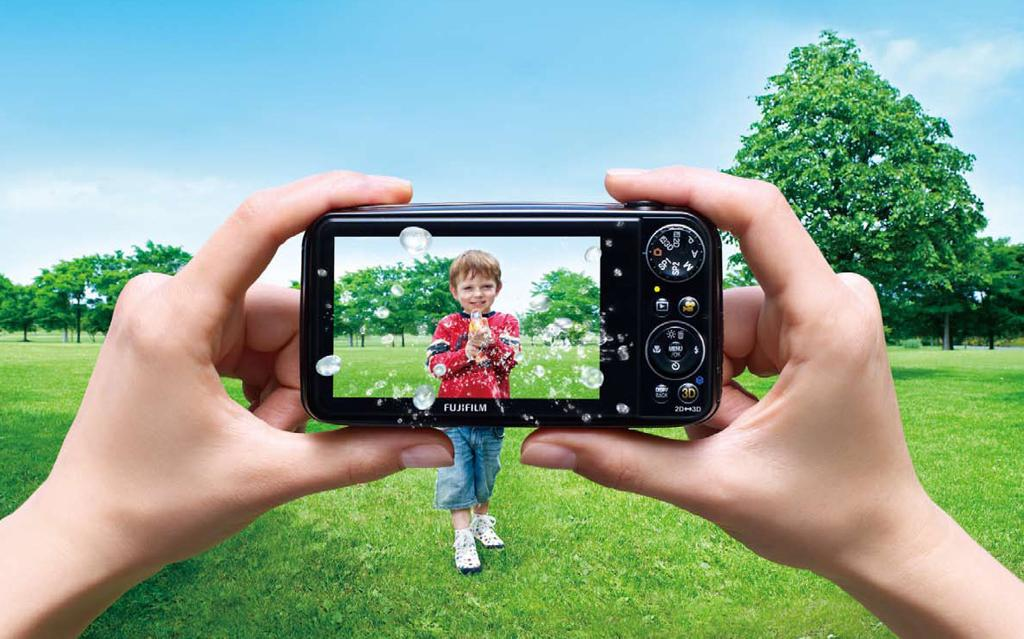face: (457, 263, 496, 313)
